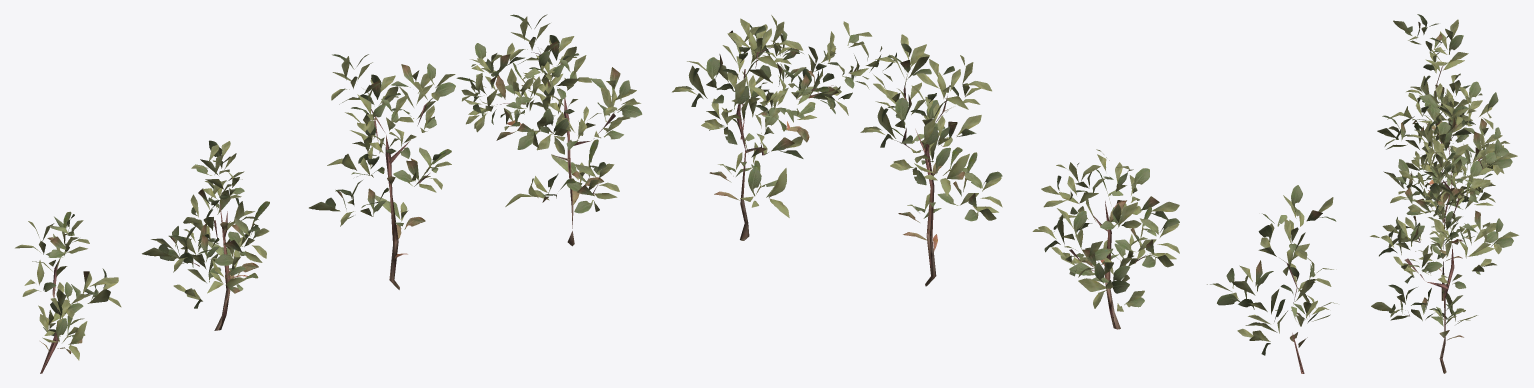
The model's file is shrub_04_lod1.glb.
3 views of the same model, side by side, from view 1: azimuth 30°, elevation 25°; view 2: azimuth 150°, elevation 25°; view 3: azimuth 270°, elevation 25° (orthographic). The views are drawn at different scales.
Visible parts, largest first — view 1: shrub_04; view 2: shrub_04; view 3: shrub_04.
Part boxes in pixels (x1,y1,x2,y2): shrub_04: (15,14,642,373); shrub_04: (672,15,1337,373); shrub_04: (1370,14,1518,373).
Size of the model in its own units: 0.5837 by 0.2185 by 0.1461.
1 material, 1 textured.
